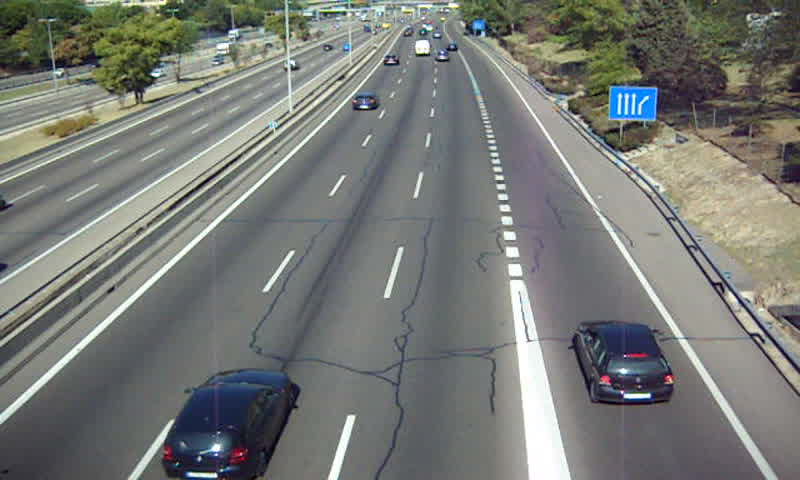car: (160, 371, 292, 480), (578, 321, 674, 404), (350, 93, 379, 112), (382, 53, 402, 65)
